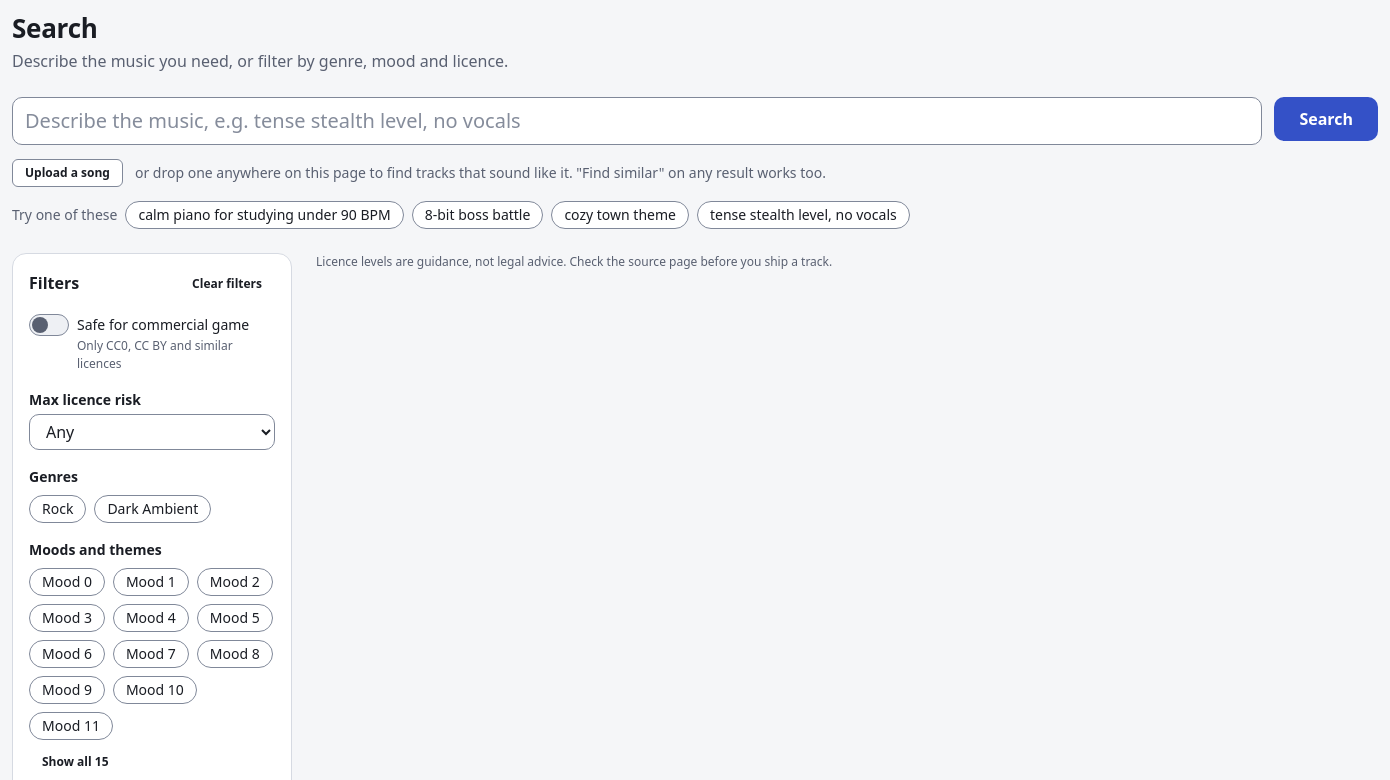
Scenario: Search page: filters › maps the max risk select when the toggle is off
Select "Amber" in the dropdown labelled "Max licence risk" at (152, 432), box x1=29 y1=414 x2=275 y2=450
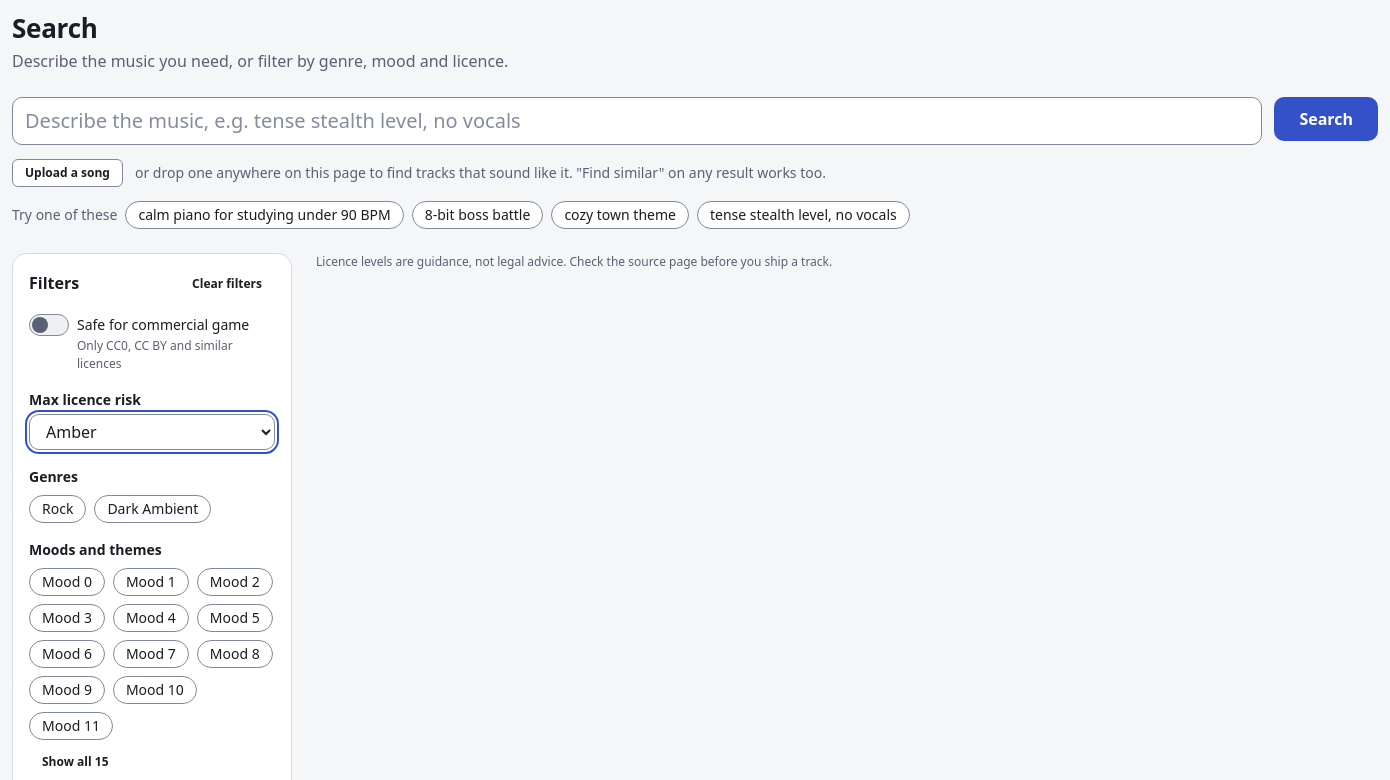
Type "rain" into the field named "Describe the music you need".
click(637, 120); type("rain")  # box x1=12 y1=96 x2=1262 y2=144
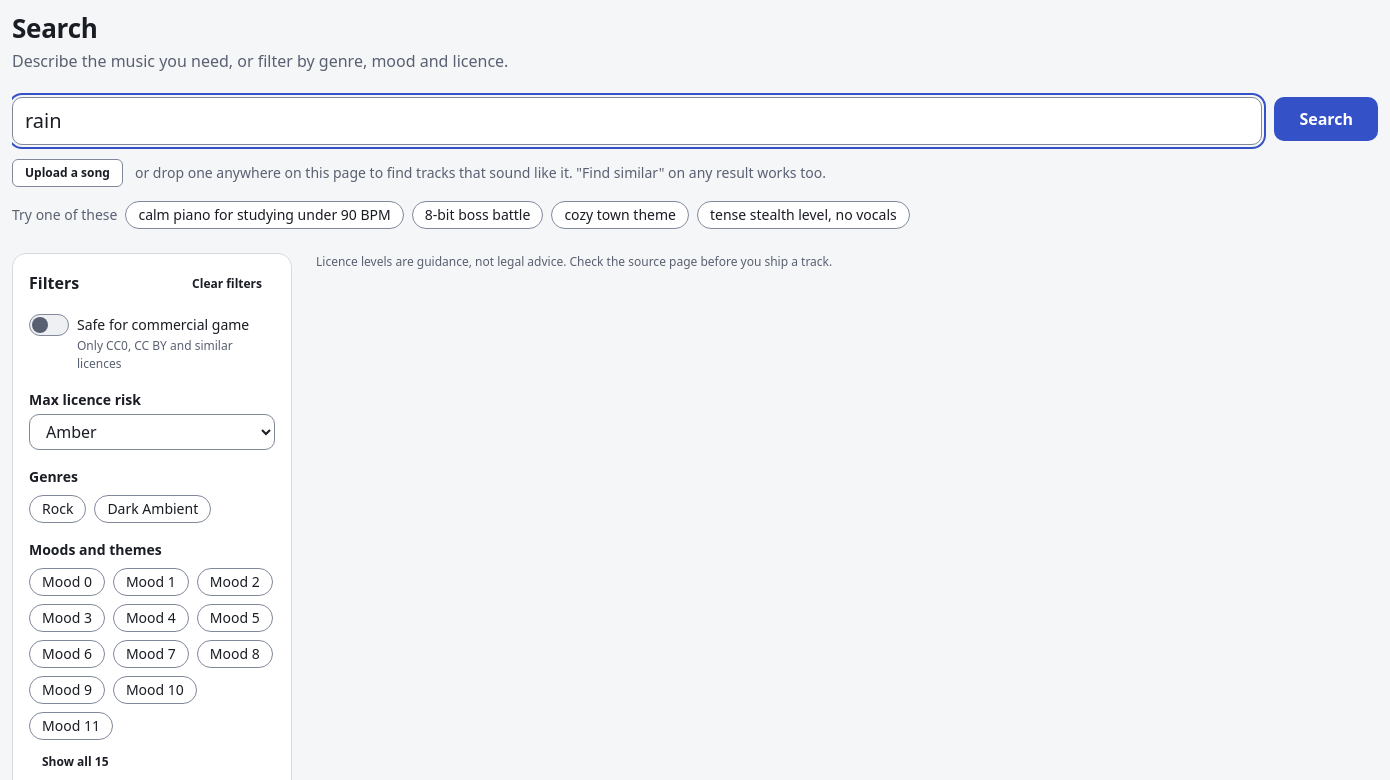
Click the button "Search".
click(1326, 118)  # box x1=1274 y1=96 x2=1378 y2=140
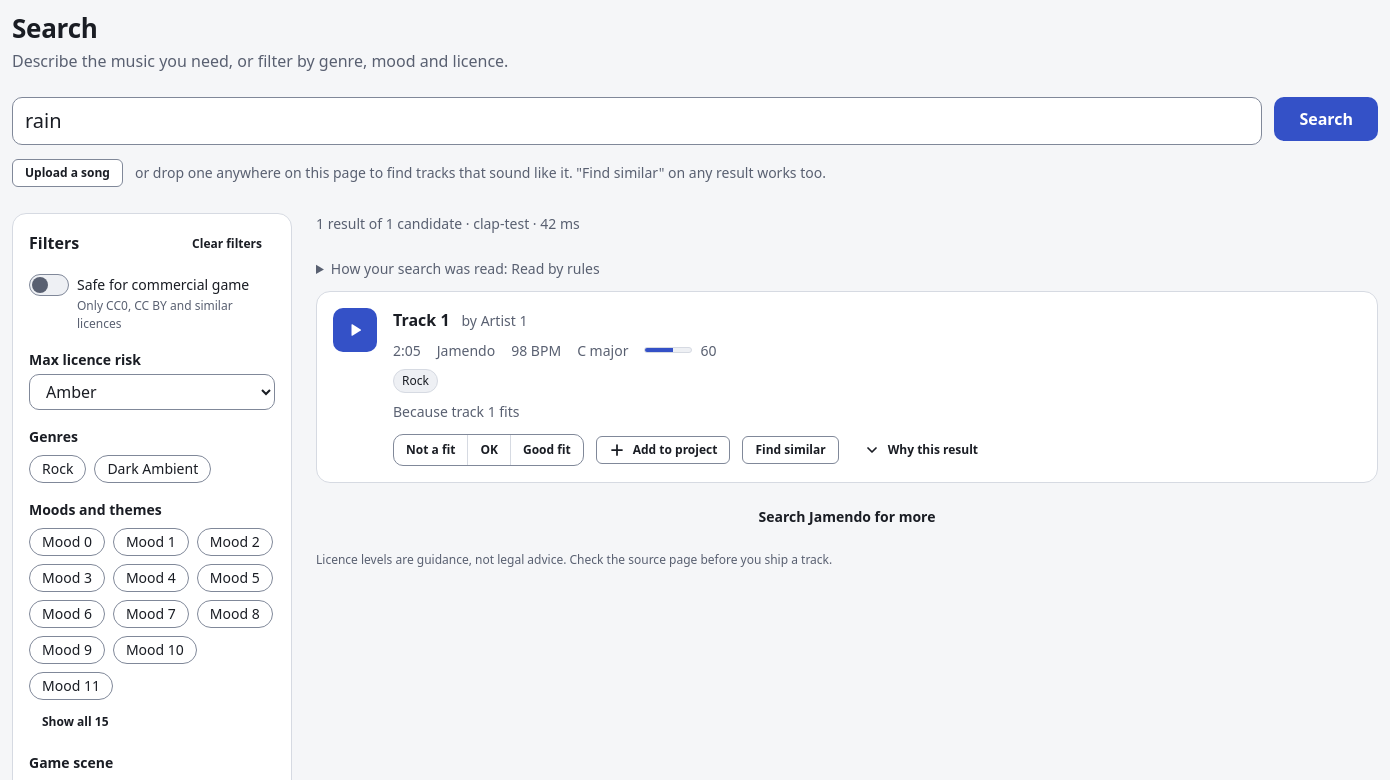
Result: the button "Track 1" is shown at x1=393 y1=308 x2=450 y2=332
